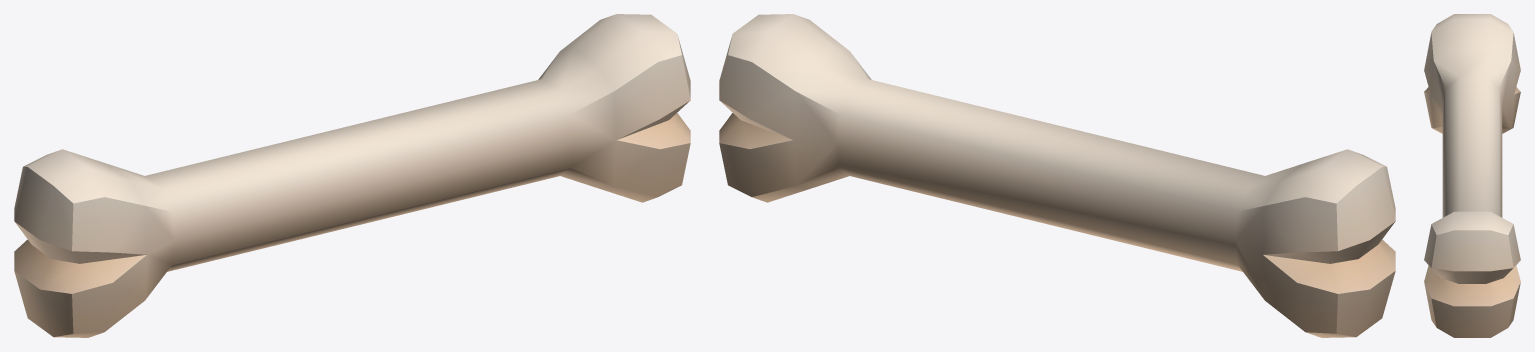
Rendered from kaykit-halloween-bits-bone-c.glb.
3 views of the same model, side by side, from view 1: azimuth 30°, elevation 25°; view 2: azimuth 150°, elevation 25°; view 3: azimuth 270°, elevation 25° (orthographic). The views are drawn at different scales.
Visible parts, largest first — view 1: bone_C; view 2: bone_C; view 3: bone_C.
Part boxes in pixels (x1,y1,x2,y2): bone_C: (14, 14, 690, 337); bone_C: (719, 14, 1395, 337); bone_C: (1424, 14, 1520, 337).
Size of the model in its own units: 1.11 by 0.2761 by 0.2007.
Materials: 1 (1 with a texture image).
